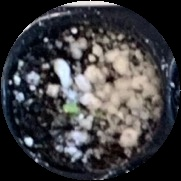Basil: (62, 103, 83, 119)
